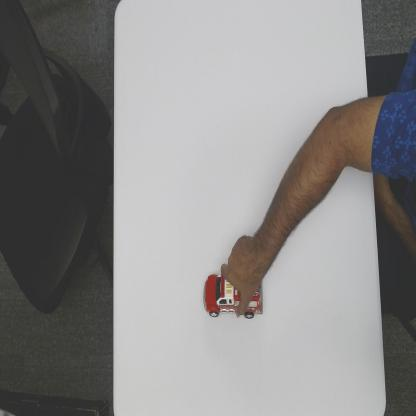Arm: (267, 90, 378, 246)
Firetruck: (203, 270, 266, 318)
Hand: (219, 230, 278, 313)
